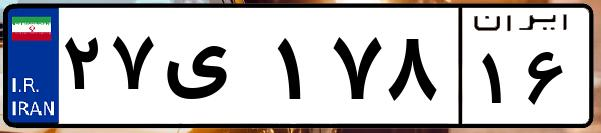1: (270, 28, 330, 110), (475, 38, 525, 113)
2: (57, 26, 110, 100)
6: (525, 38, 570, 115)
7: (330, 28, 385, 110), (110, 28, 158, 98)
8: (385, 28, 445, 110)
ی: (158, 20, 270, 120)
